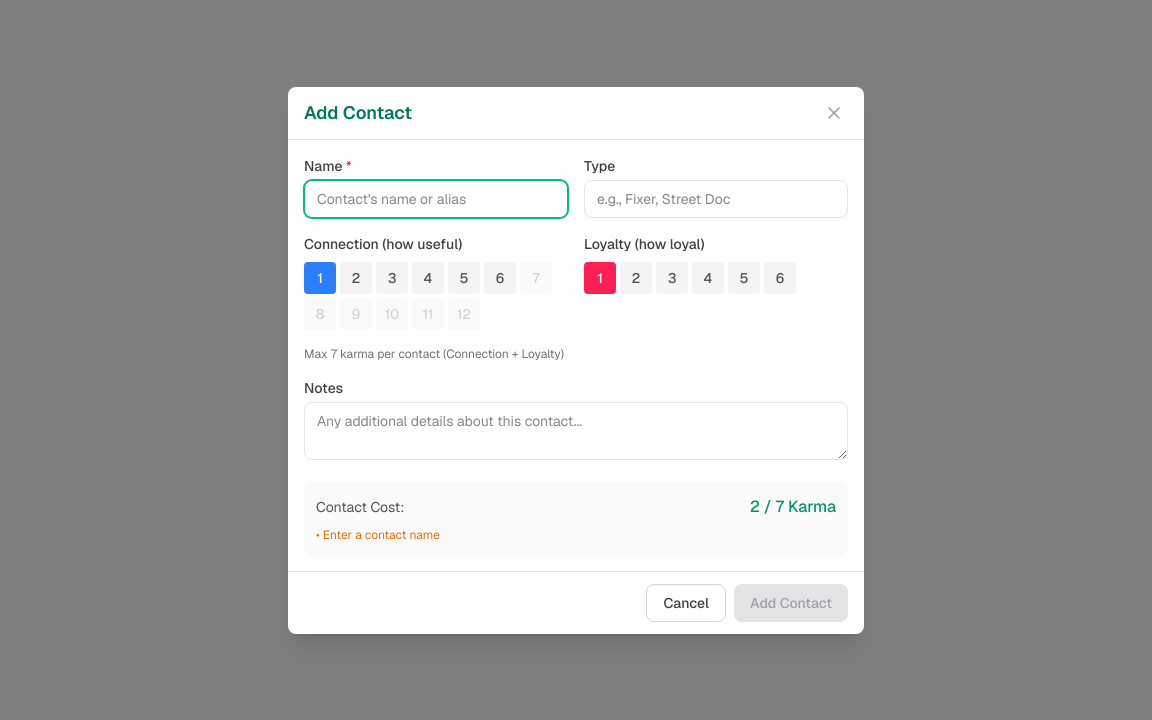
ContactModal › validation › enables save button when name is filled and karma available
Type "Johnny" into the field with placeholder "Contact's name or alias" at (436, 198), box [304, 180, 568, 218]
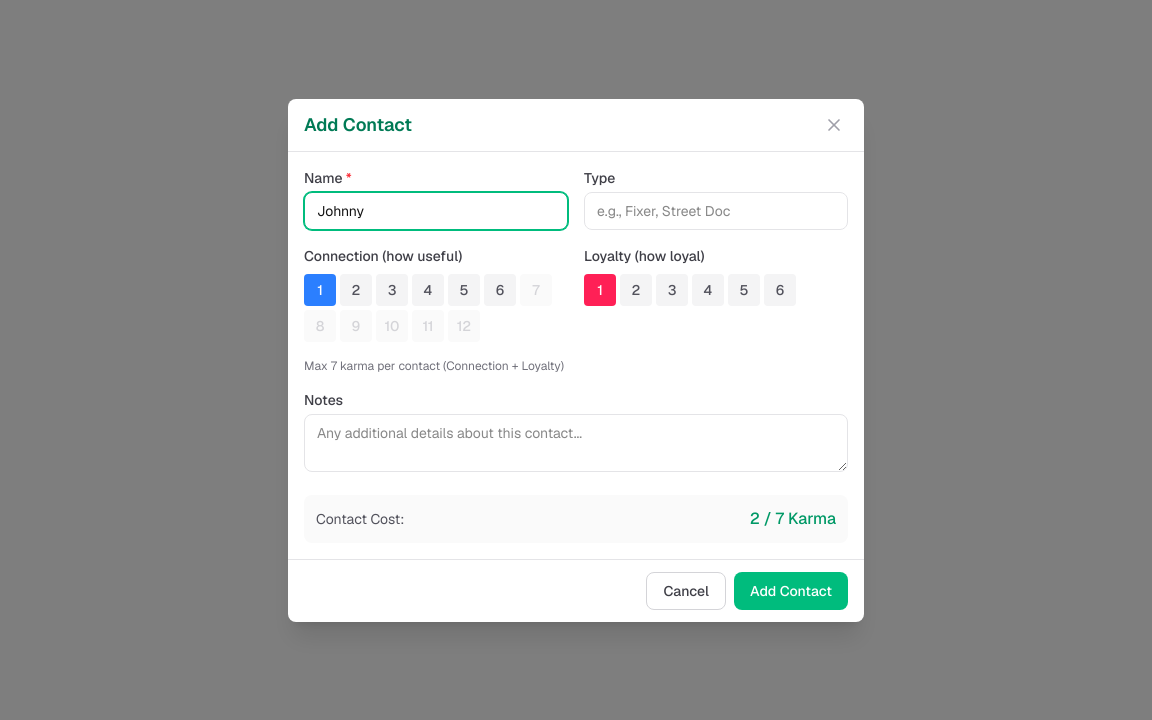
Now the button "Add Contact" is enabled, box [734, 572, 848, 610]
